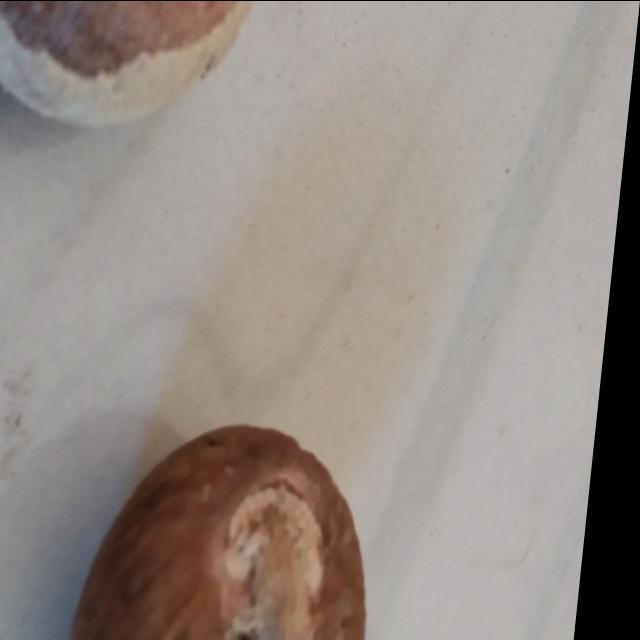karigot: (79, 398, 403, 640)
phatora: (0, 0, 281, 124)
